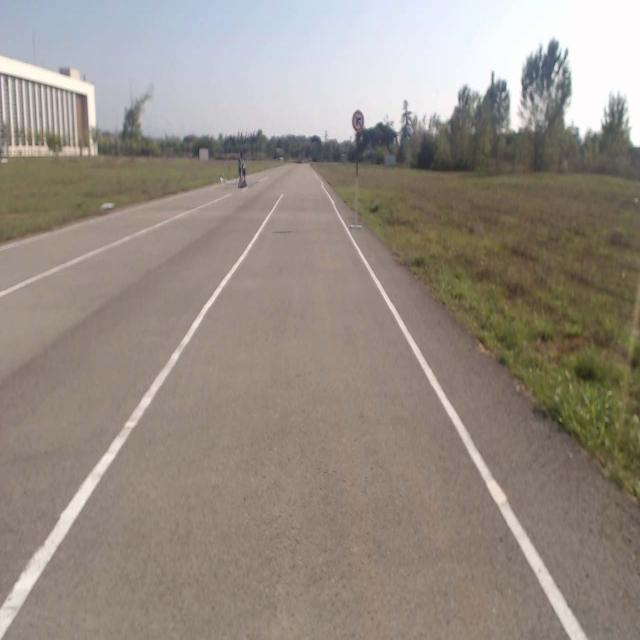sagadonulmez: (352, 110, 364, 132)
